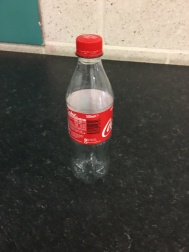bottle_red: (53, 30, 123, 198)
